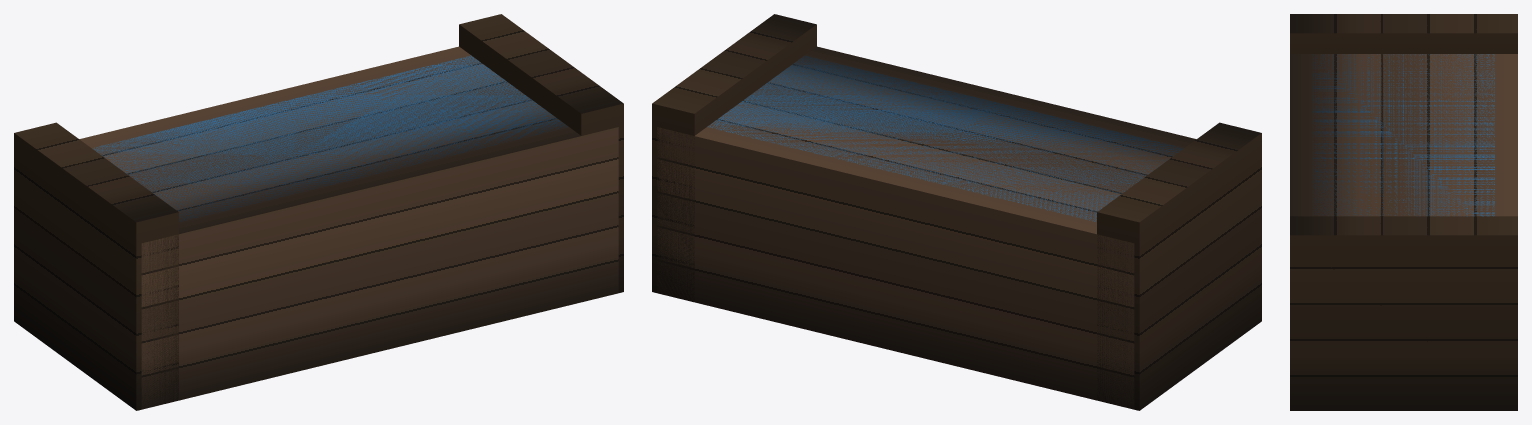
The model's file is trough.glb.
3 renders of one model, left to right at view 1: azimuth 30°, elevation 25°; view 2: azimuth 150°, elevation 25°; view 3: azimuth 270°, elevation 25°, orthographic. The views are drawn at different scales.
Visible parts, largest first — view 1: trough; view 2: trough; view 3: trough.
Part boxes in pixels (left/top/right/bottom): trough: left=14, top=14, right=623, bottom=410; trough: left=652, top=14, right=1261, bottom=410; trough: left=1290, top=14, right=1517, bottom=410.
Bounding box in the file's own units: 0.92 × 0.34 × 0.4.
1 material, 1 textured.
